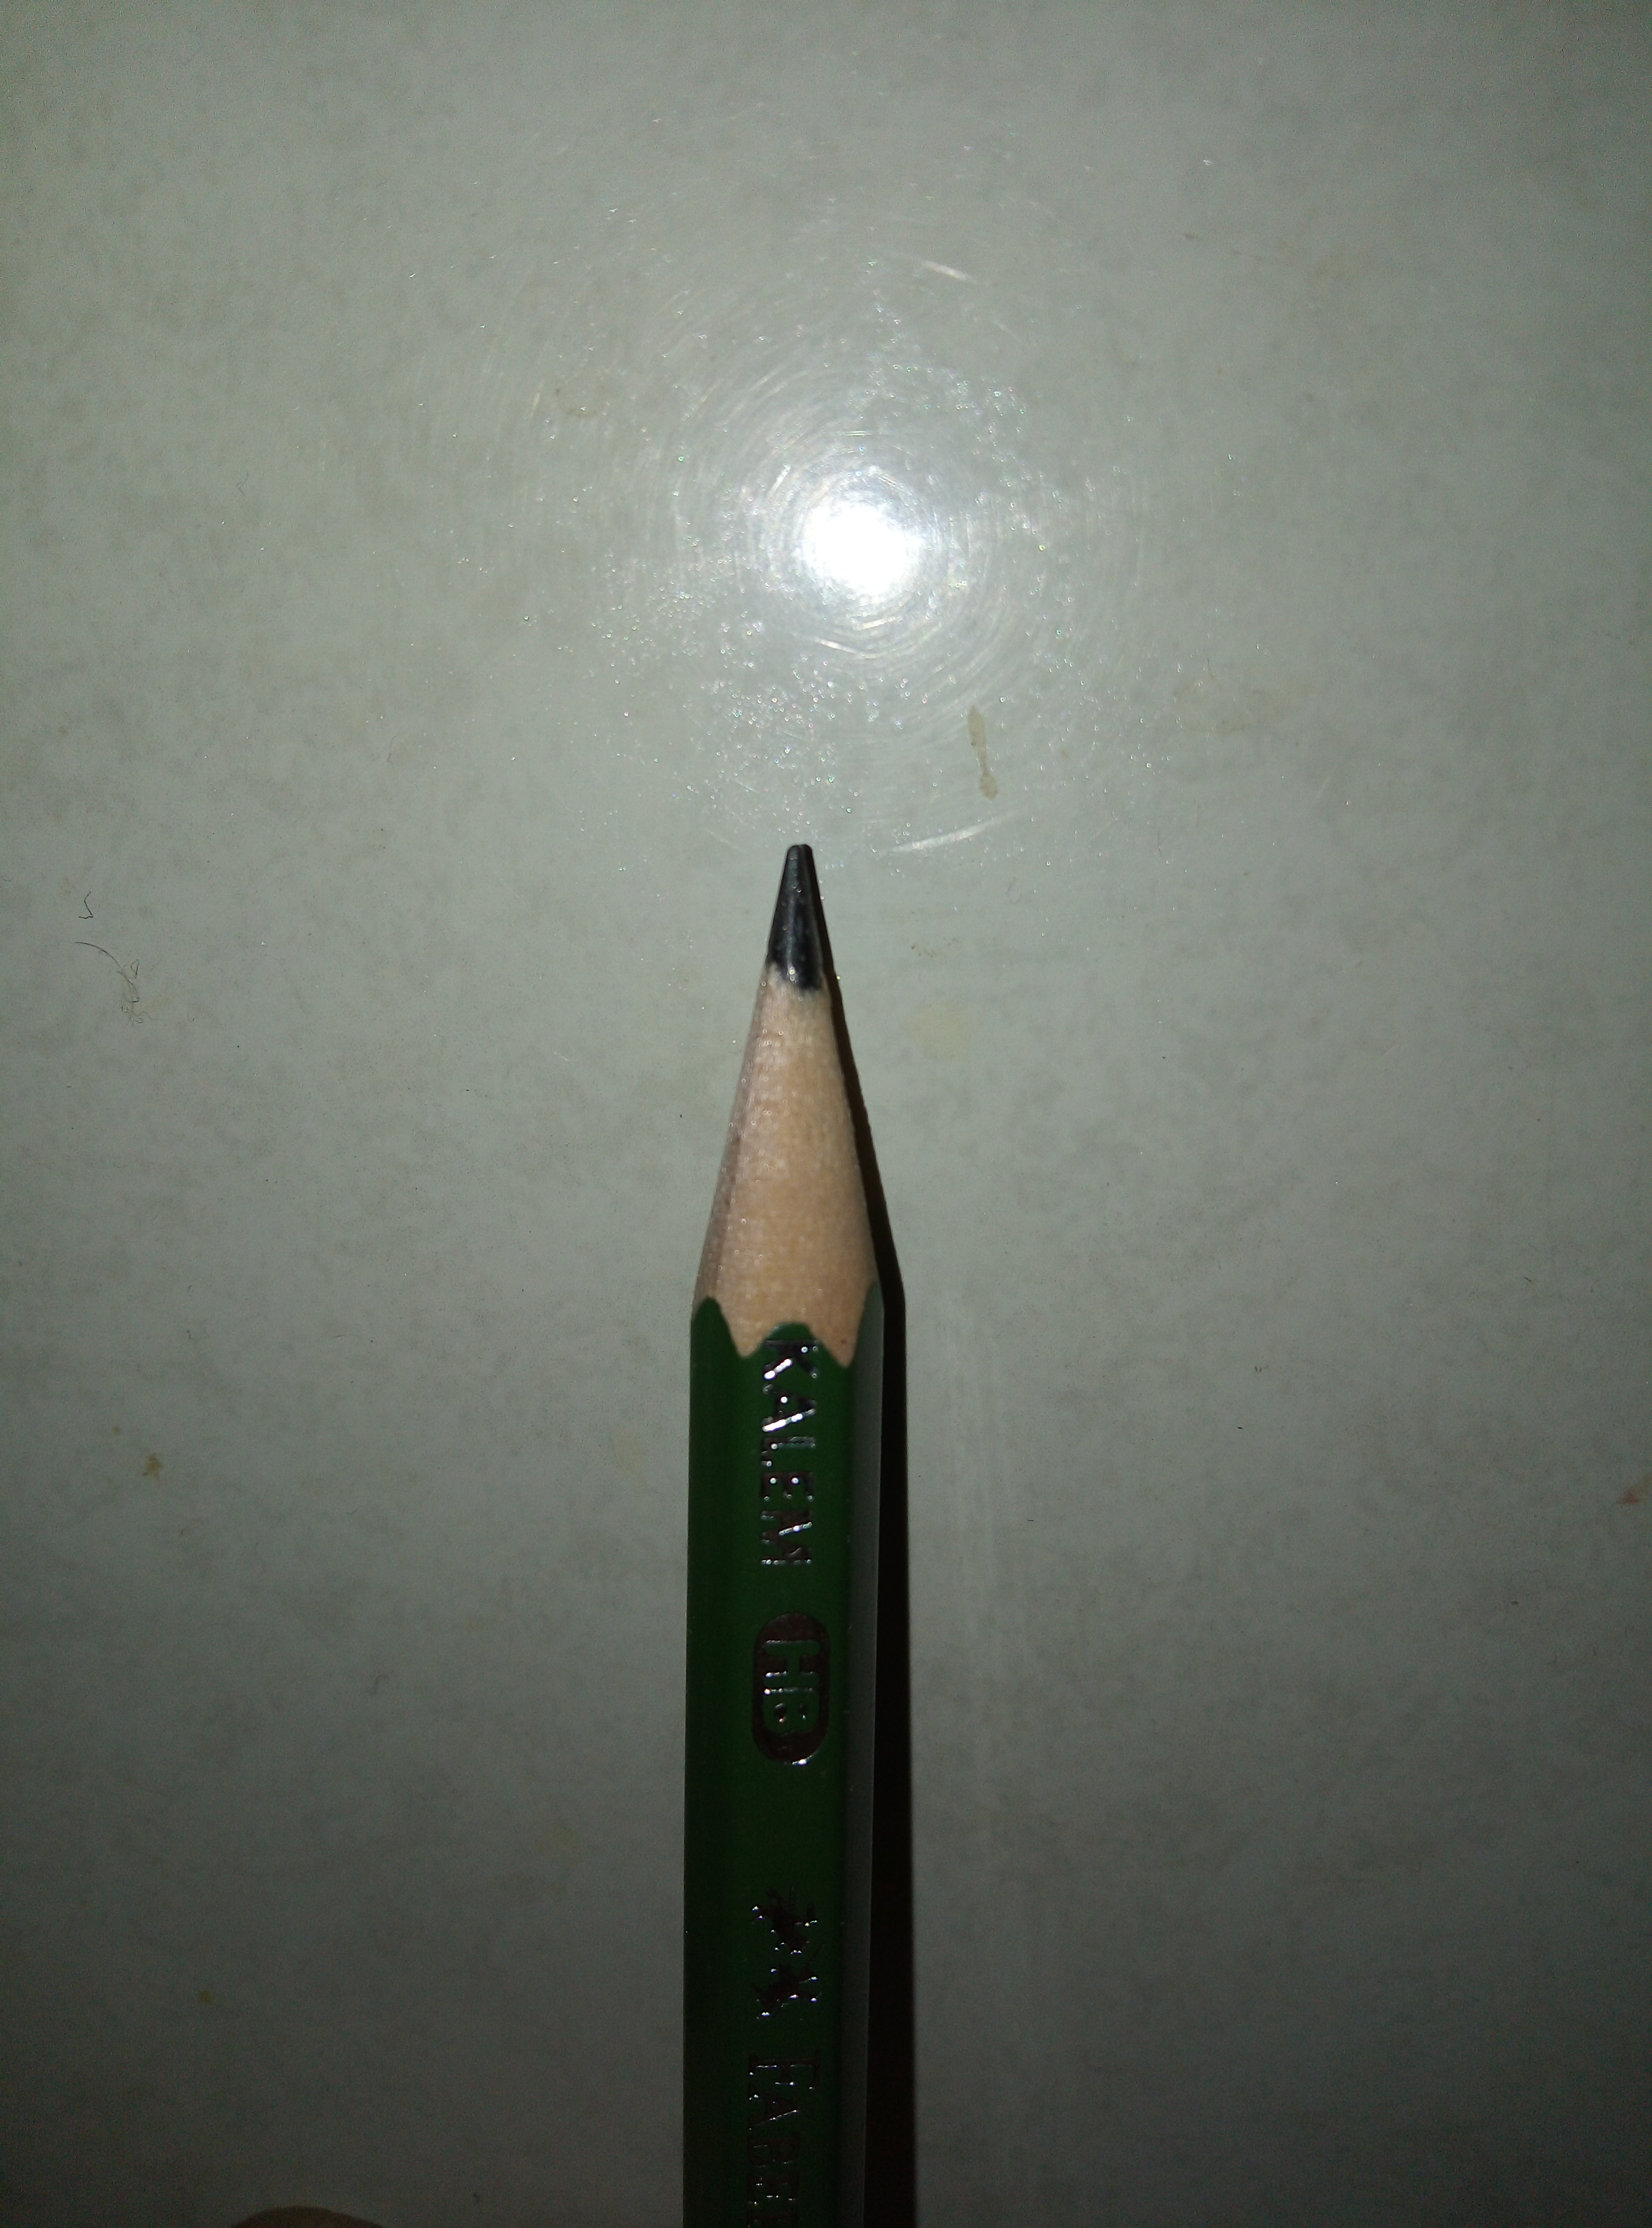pen_tip: (580, 687, 993, 1511)
